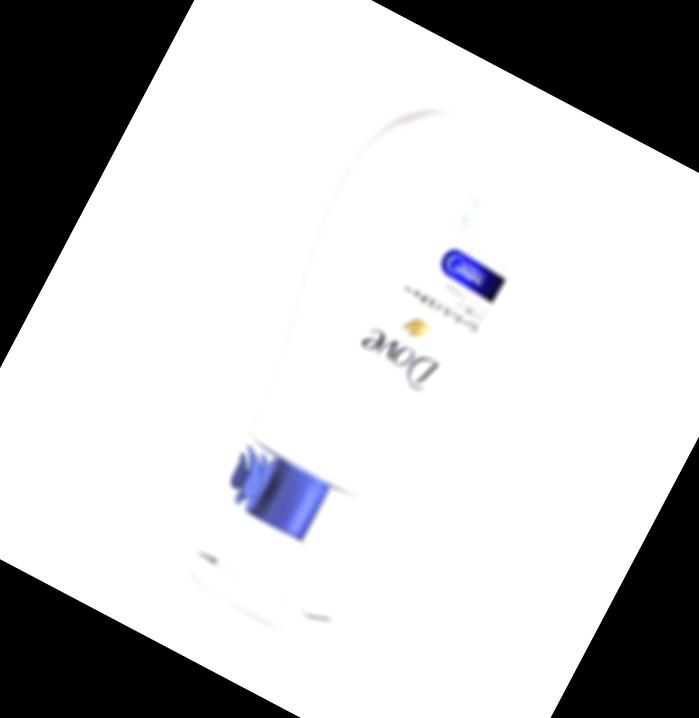cosmetic: (134, 70, 589, 662)
